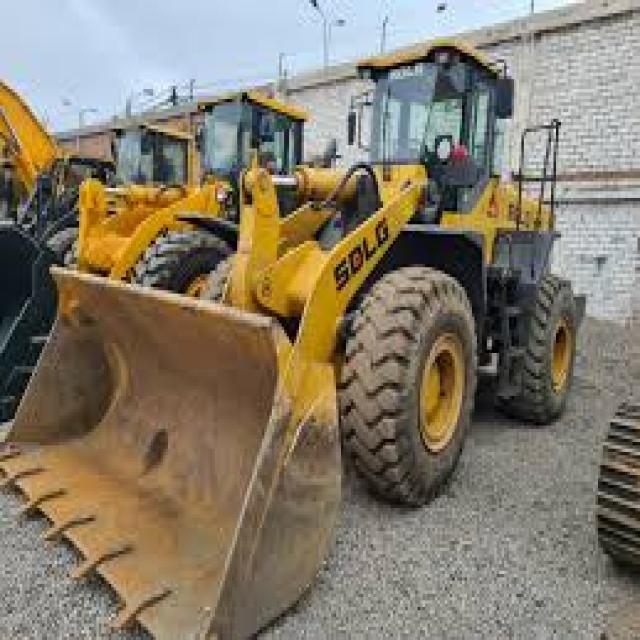buldozerpayloadergrader: (8, 33, 584, 629), (93, 73, 306, 330)
